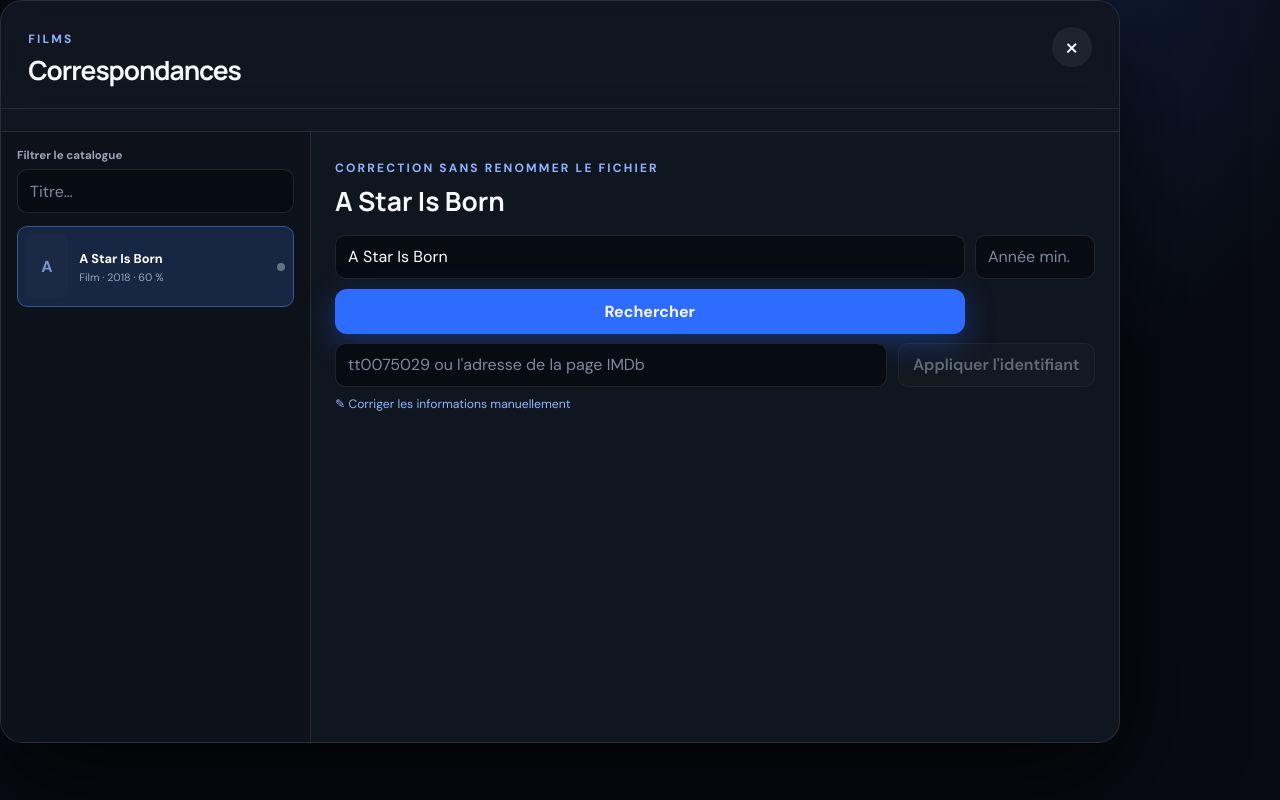
it: correspondance par identifiant IMDb › annonce le titre obtenu, et met la fiche à jour sur place
Type "tt0075029" into the field named "Identifiant IMDb". click: (611, 365)
box: top-left (335, 343), bottom-right (887, 387)
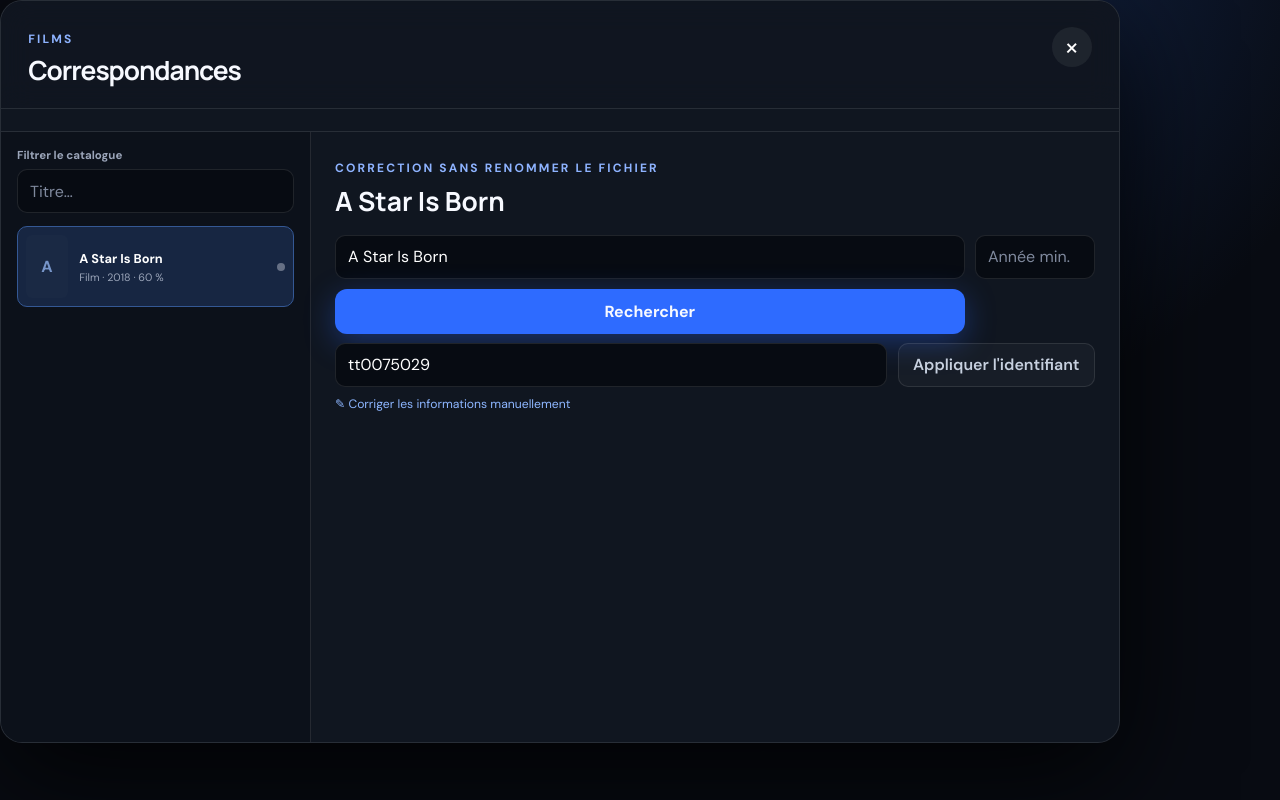
Click the button "Appliquer l'identifiant". click: (996, 365)
box: top-left (898, 343), bottom-right (1095, 387)
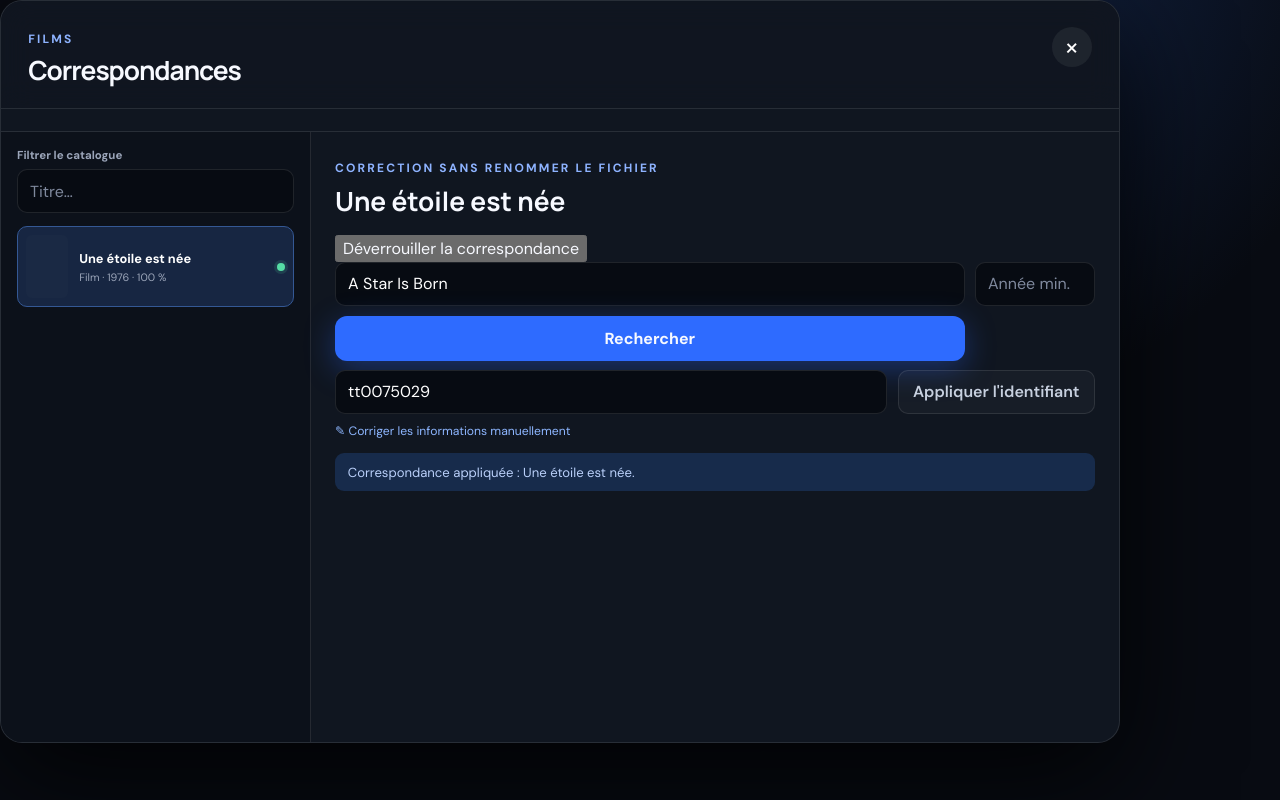
expect the text "Correspondance appliquée : Une étoile est née." is shown: met, box top-left (335, 454), bottom-right (1095, 491)
